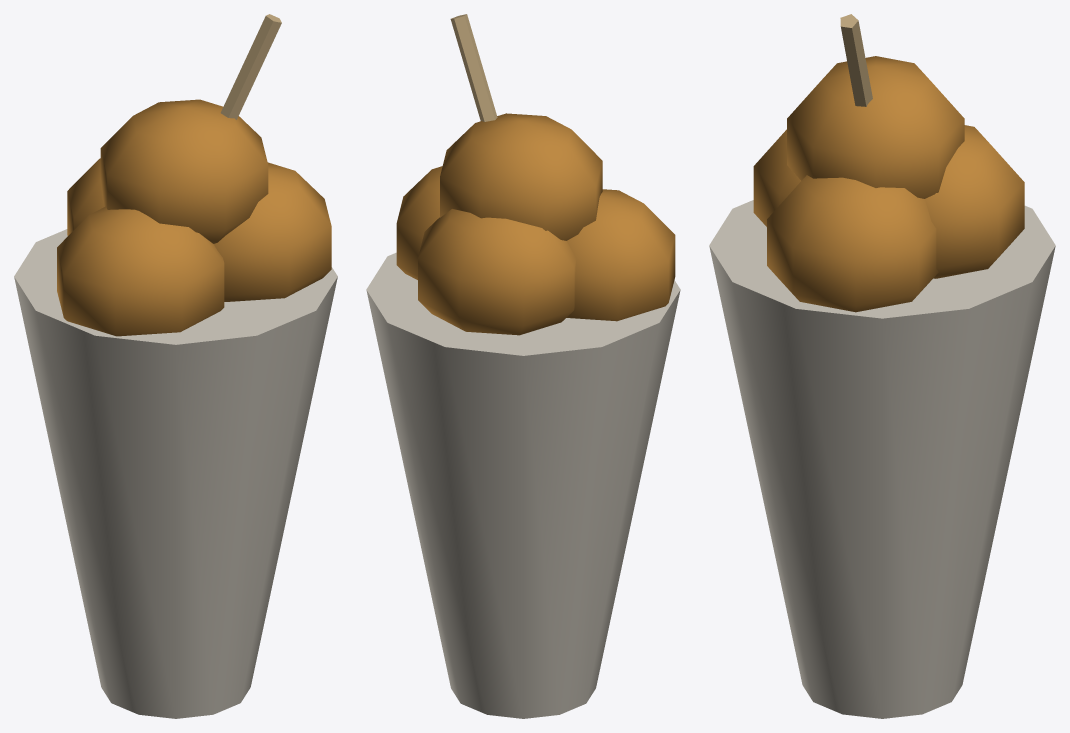
File: item_karaage.glb
The picture shows the model from 3 angles, left to right: view 1: azimuth 30°, elevation 25°; view 2: azimuth 150°, elevation 25°; view 3: azimuth 270°, elevation 25°; orthographic projection. The views are drawn at different scales.
Visible parts, largest first — view 1: item_karaage; view 2: item_karaage; view 3: item_karaage.
Boxes of the visible parts, x1,y1,x2,y2 form: item_karaage: (14,14,337,718); item_karaage: (366,14,680,718); item_karaage: (709,14,1055,718).
Bounding box in the file's own units: 0.104 × 0.2352 × 0.104.
